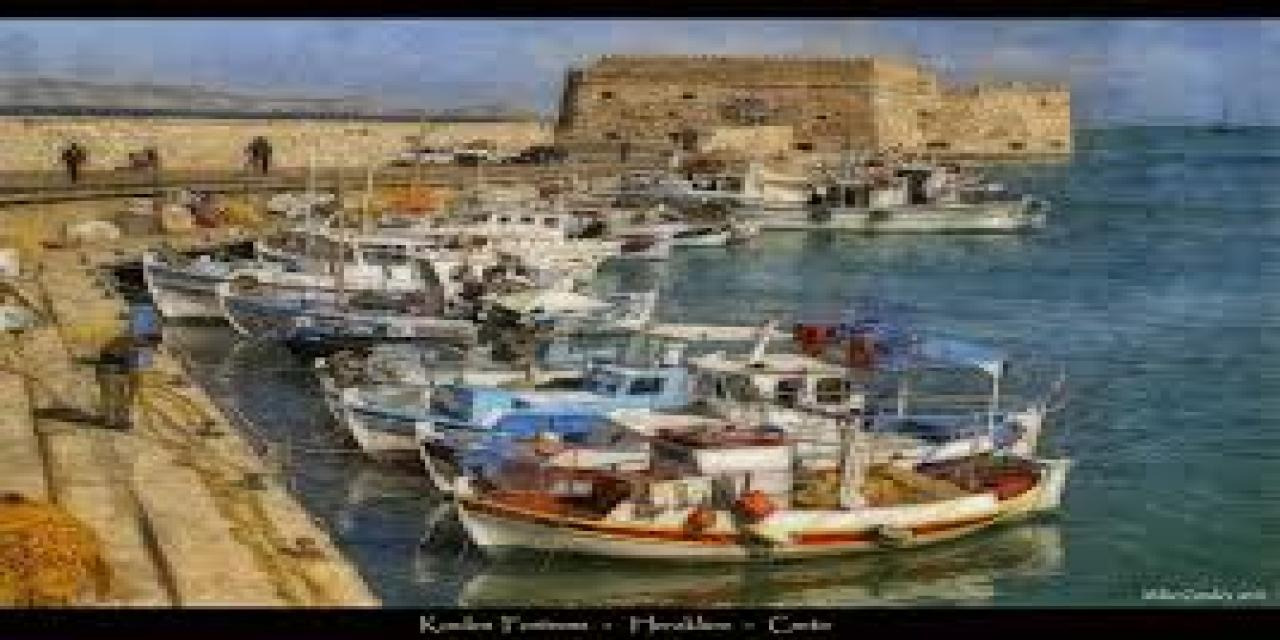Kules: (557, 56, 1074, 163)
